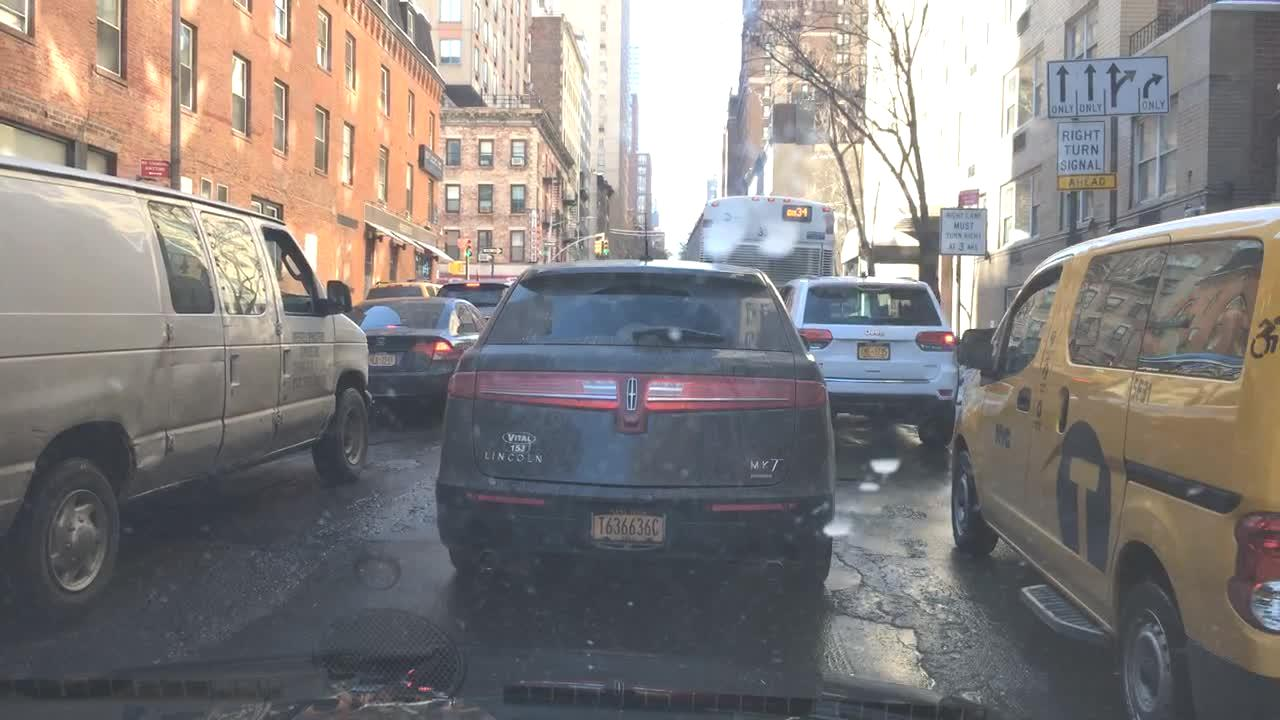jeep: (859, 325, 890, 339)
lincoln: (614, 365, 649, 431)
